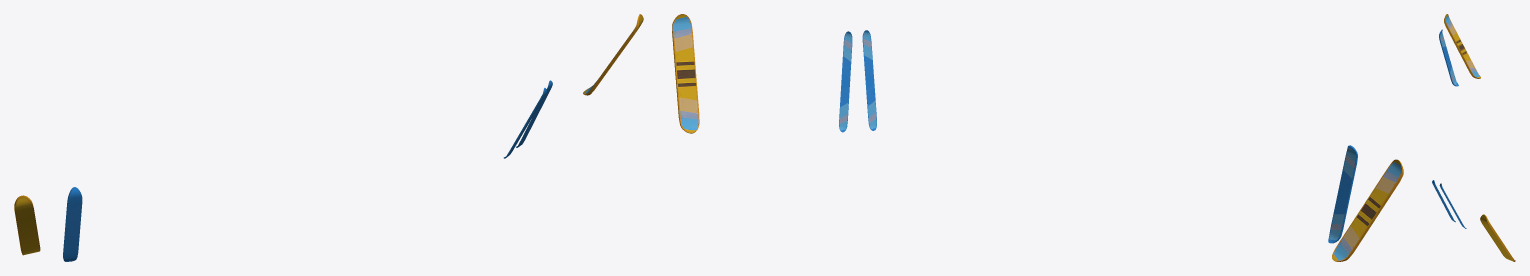
File: pref_sm_beach_winter_hxbT01_lv3.fbx
The picture shows the model from 3 angles, left to right: view 1: azimuth 30°, elevation 25°; view 2: azimuth 150°, elevation 25°; view 3: azimuth 270°, elevation 25°; orthographic projection. The views are drawn at different scales.
Parts seen in each view (by area): view 1: pref_sm_beach_winter_hxbT01_lv3; view 2: pref_sm_beach_winter_hxbT01_lv3; view 3: pref_sm_beach_winter_hxbT01_lv3.
Part boxes in pixels (x1,y1,x2,y2): pref_sm_beach_winter_hxbT01_lv3: [14, 14, 643, 261]; pref_sm_beach_winter_hxbT01_lv3: [672, 14, 1403, 261]; pref_sm_beach_winter_hxbT01_lv3: [1432, 14, 1515, 261].
Bounding box in the file's own units: 20.48 × 2.63 × 3.53.
